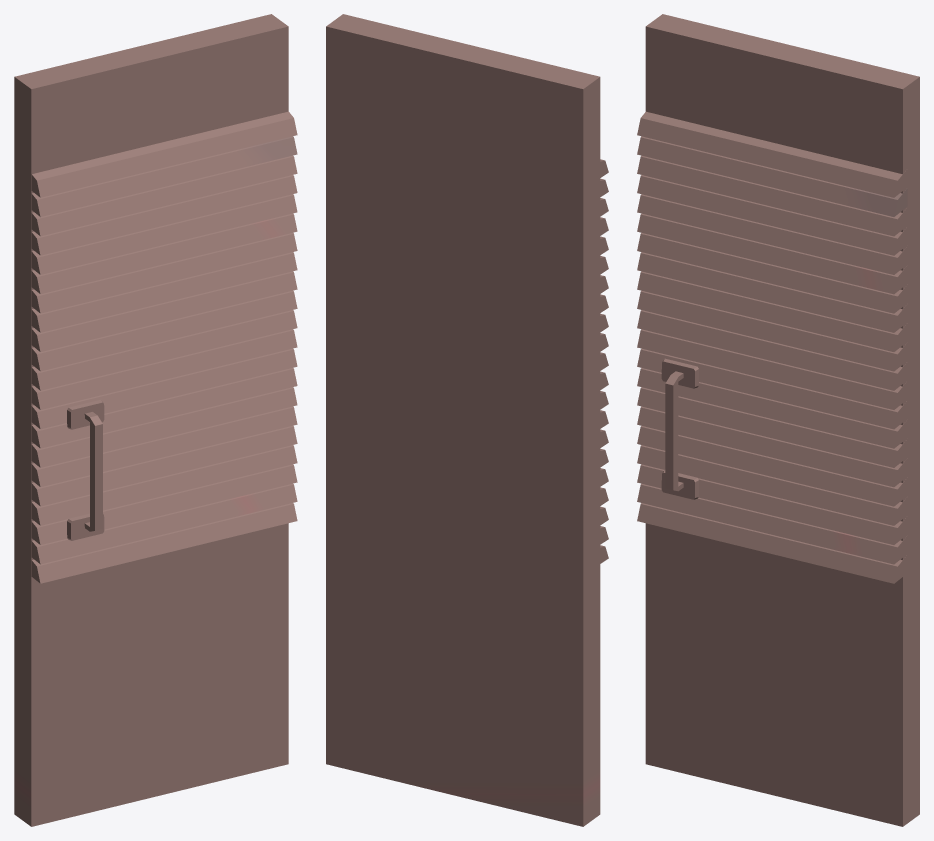
The picture shows the model from 3 angles, left to right: view 1: azimuth 30°, elevation 25°; view 2: azimuth 150°, elevation 25°; view 3: azimuth 330°, elevation 25°; orthographic projection.
Visible parts, largest first — view 1: SM_H2_D5; view 2: SM_H2_D5; view 3: SM_H2_D5.
Part boxes in pixels (<box>): SM_H2_D5: <box>14,14,297,826</box>; SM_H2_D5: <box>326,14,608,826</box>; SM_H2_D5: <box>637,14,919,826</box>.
Bounding box in the file's own units: 103 × 26.93 × 281.
Materials: 1 (1 with a texture image).
